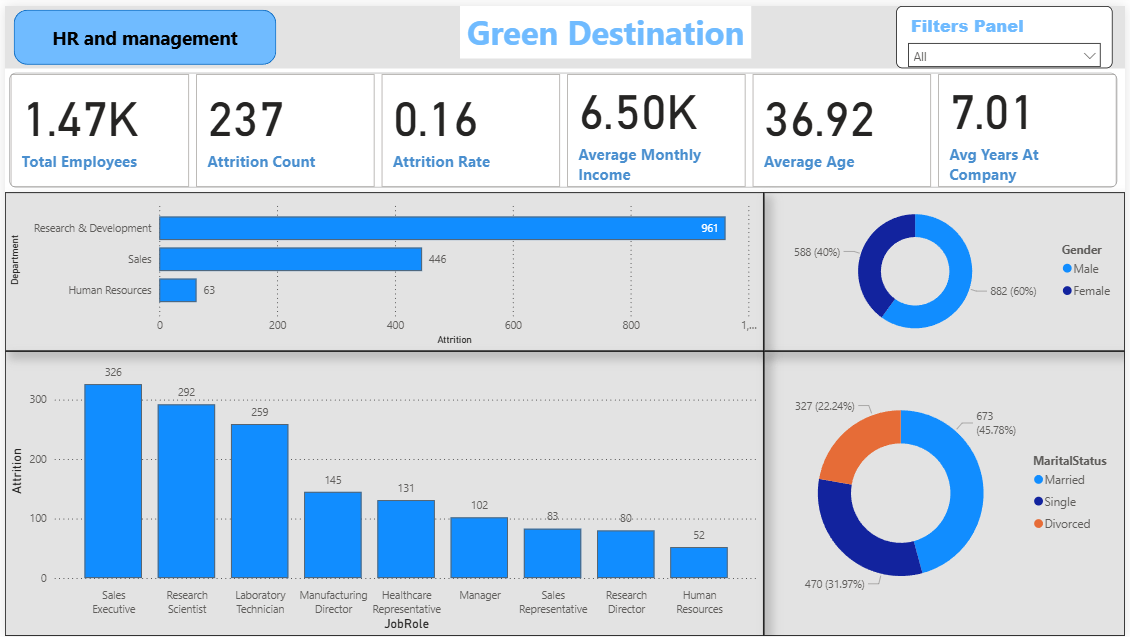

Layout of this report page (visuals, bound fields, positions):
{"tool":"powerbi","page":{"name":"Executive Summary ","canvas":[1280,720],"ordinal":0},"visuals":[{"type":"cardVisual","fields":{"Data":["greendestination (2).Total Employees","greendestination (2).Attrition Count","greendestination (2).Attrition Rate","greendestination (2).Average Monthly Income","greendestination (2).Average Age","greendestination (2).Avg Years At Company"]},"box":[0,71.4,1280,141.4],"z":0},{"type":"textbox","box":[520,0,332.9,60],"z":1000},{"type":"clusteredBarChart","fields":{"Category":["greendestination (2).Department"],"Y":["CountNonNull(greendestination (2).Attrition)"]},"box":[0,212.9,867.1,181.4],"z":2000},{"type":"columnChart","fields":{"Category":["greendestination (2).JobRole"],"Y":["CountNonNull(greendestination (2).Attrition)"]},"box":[0,394.3,867.1,325.7],"z":3000},{"type":"donutChart","fields":{"Y":["CountNonNull(greendestination (2).Attrition)"],"Category":["greendestination (2).Gender"]},"box":[867.1,212.9,412.9,181.4],"z":4000},{"type":"donutChart","fields":{"Y":["CountNonNull(greendestination (2).Attrition)"],"Category":["greendestination (2).MaritalStatus"]},"box":[867.1,394.3,412.9,325.7],"z":5000},{"type":"slicer","fields":{"Values":["greendestination (2).Department","greendestination (2).JobRole","greendestination (2).OverTime","greendestination (2).Gender","greendestination (2).Income Category","greendestination (2).EducationField"]},"box":[1018.6,0,247.1,71.4],"z":6000},{"type":"shape","box":[10,4.3,300,62.9],"z":7000}]}

Visuals, with their boxes in screenshot pixels (x1, y1, x2, y2), scaled from the page's 1280x720 canvas onto the 1130x637 screenshot:
cardVisual - greendestination (2).Total Employees x greendestination (2).Attrition Count: 0 63 1129 188
textbox: 459 0 753 53
clusteredBarChart - greendestination (2).Department x CountNonNull(greendestination (2).Attrition): 0 188 765 349
columnChart - greendestination (2).JobRole x CountNonNull(greendestination (2).Attrition): 0 349 765 636
donutChart - CountNonNull(greendestination (2).Attrition) x greendestination (2).Gender: 765 188 1129 349
donutChart - CountNonNull(greendestination (2).Attrition) x greendestination (2).MaritalStatus: 765 349 1129 636
slicer - greendestination (2).Department x greendestination (2).JobRole: 899 0 1117 63
shape: 9 4 274 59
